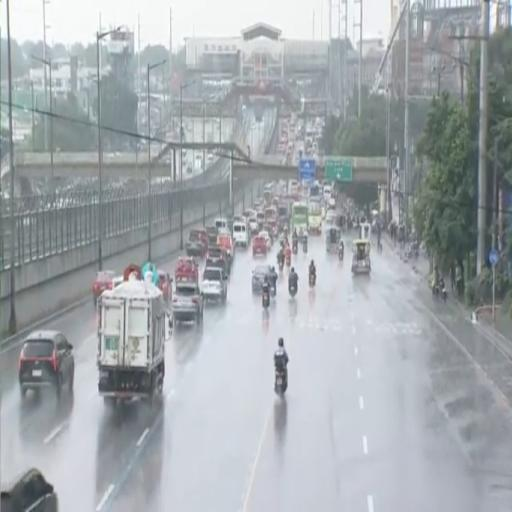bus: (291, 203, 308, 232), (309, 199, 322, 234)
car: (19, 330, 74, 396), (0, 469, 58, 511), (172, 282, 203, 325), (201, 267, 227, 303), (93, 270, 115, 305), (206, 246, 230, 275), (185, 229, 208, 257), (175, 256, 198, 282), (252, 265, 270, 293), (218, 233, 234, 262), (158, 270, 172, 303), (233, 221, 249, 247), (252, 236, 267, 255), (206, 227, 218, 248), (259, 231, 272, 250), (248, 216, 258, 234), (256, 212, 264, 230), (113, 276, 124, 289), (328, 198, 335, 210)
motorcycle: (274, 368, 287, 395), (432, 281, 447, 301), (262, 288, 269, 309), (289, 283, 297, 297), (302, 238, 308, 254), (309, 272, 315, 287), (270, 283, 276, 297), (338, 247, 344, 260), (292, 240, 297, 254), (278, 259, 284, 270), (285, 255, 290, 266)
truck: (97, 271, 171, 405)
